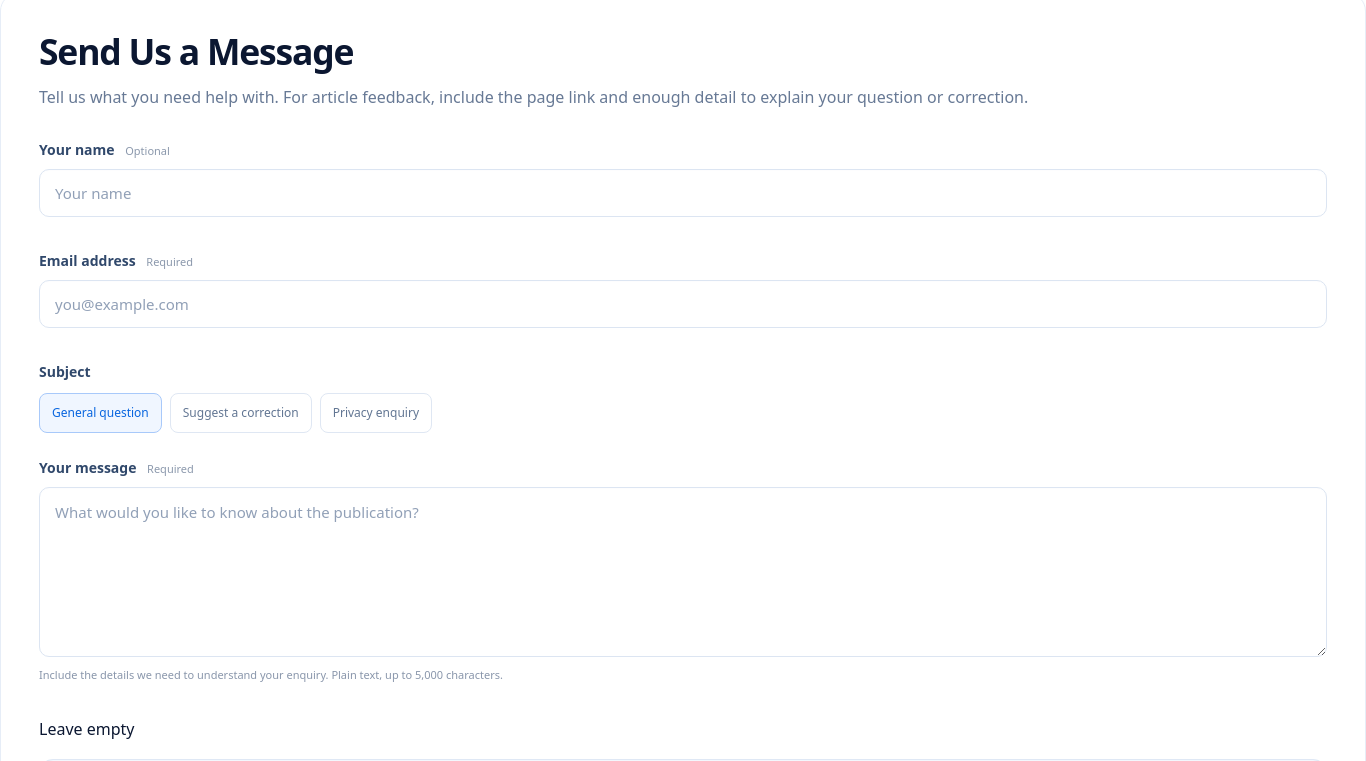
Test: honors contact rate limits while preserving the draft
The width and height of the screenshot is (1366, 761).
Step 1. Type "reader@example.com" into the field labelled "Email address Required" → point(683, 304), box [39,280,1327,328]
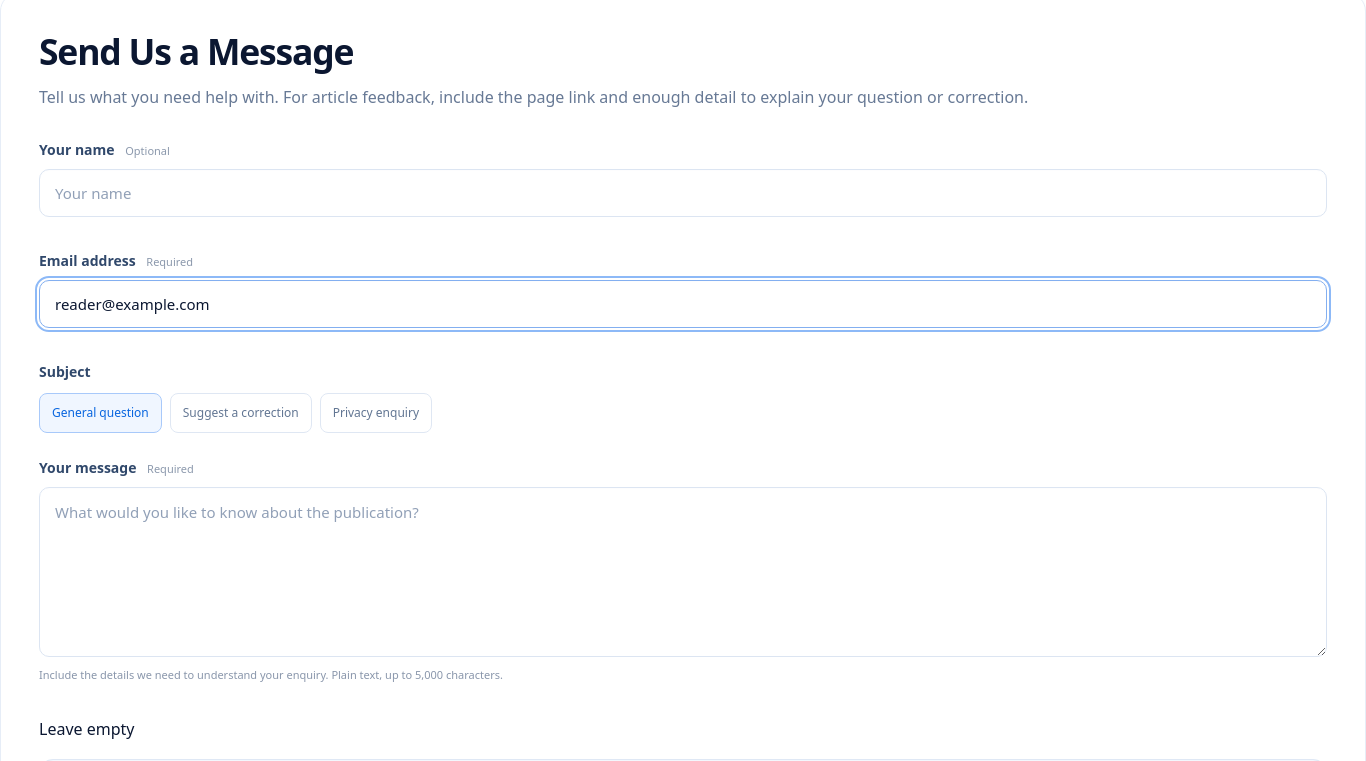
Step 2. Type "Please explain this topic." into the text box labelled "Your message Required" → point(683, 572), box [39,487,1327,657]
(page scrolled)
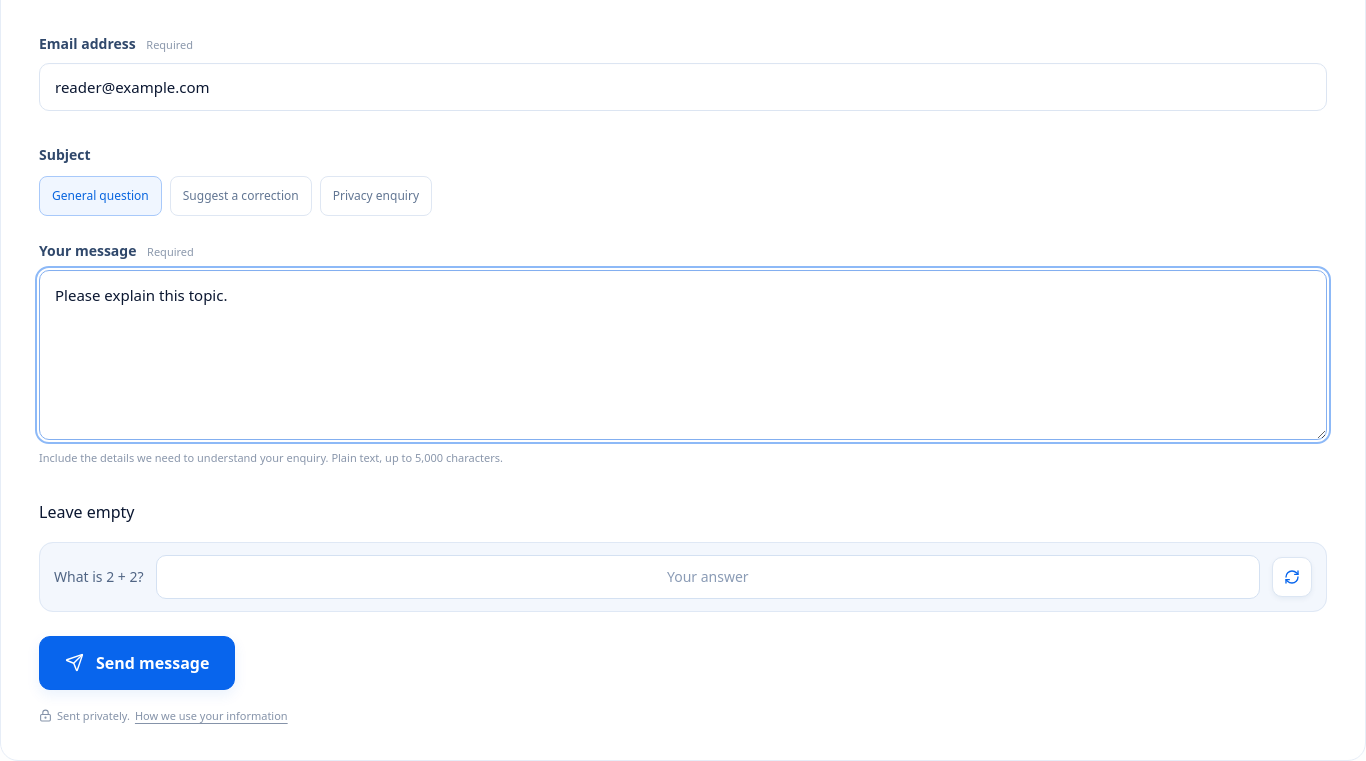
Step 3. Type "4" into the number field labelled "What is 2 + 2?" → point(708, 577), box [156,555,1260,599]
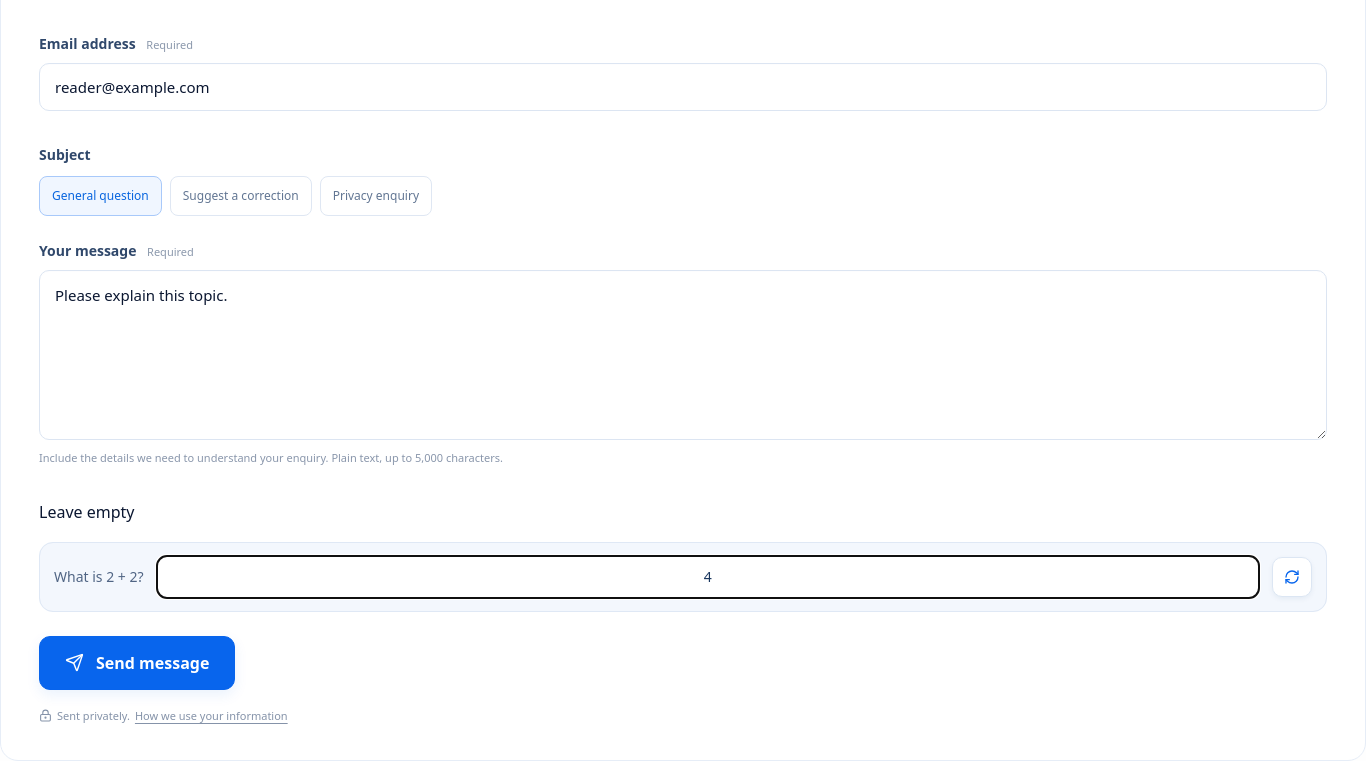
Step 4. Click the button "Send message" → point(137, 663), box [39,636,235,690]
(page scrolled)
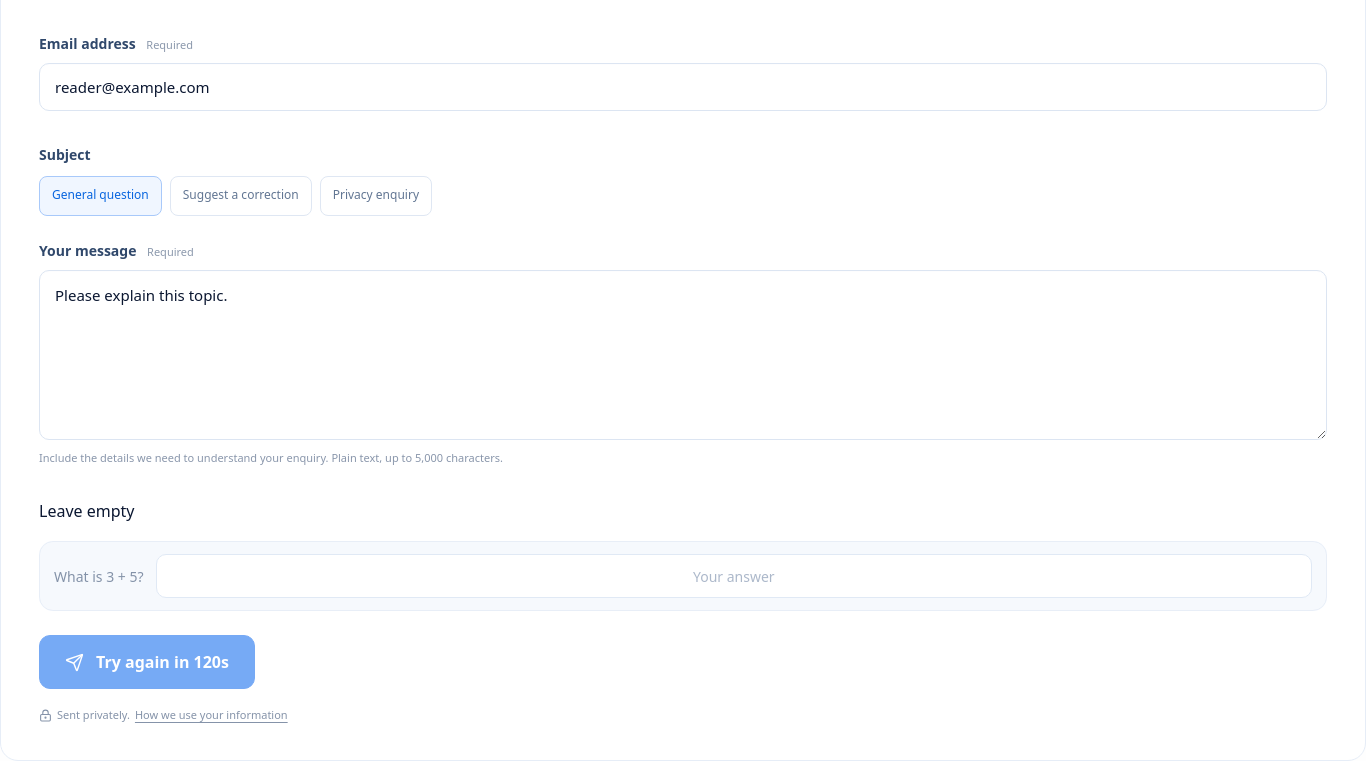
Expected: the button "Try again in 120s" is disabled, [39,635,255,689]
